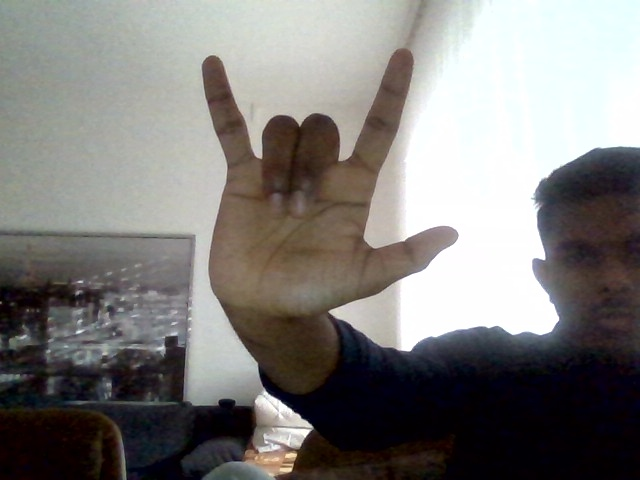thank: (201, 53, 462, 314)
